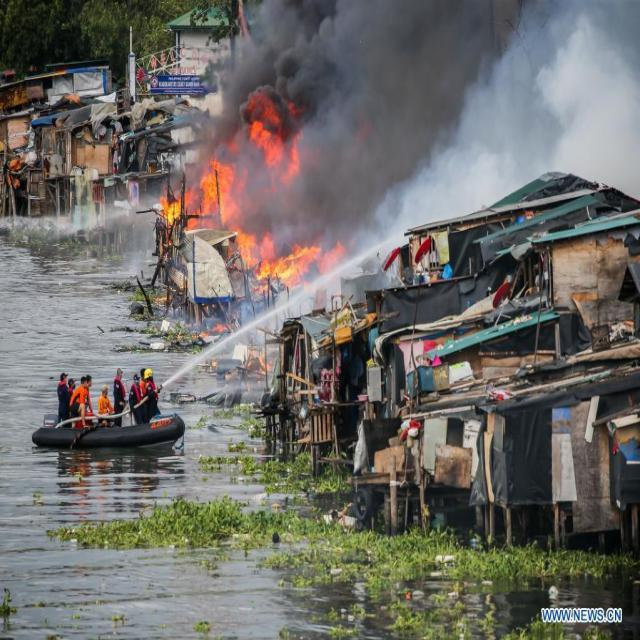Fire: (158, 153, 236, 229), (232, 237, 344, 289), (240, 88, 298, 184)
Smoke: (464, 0, 638, 200), (313, 0, 458, 226)
